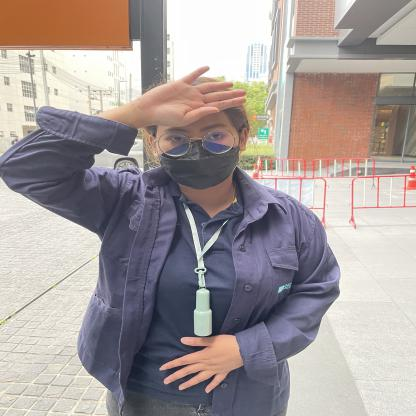Sick: (74, 49, 287, 138)
